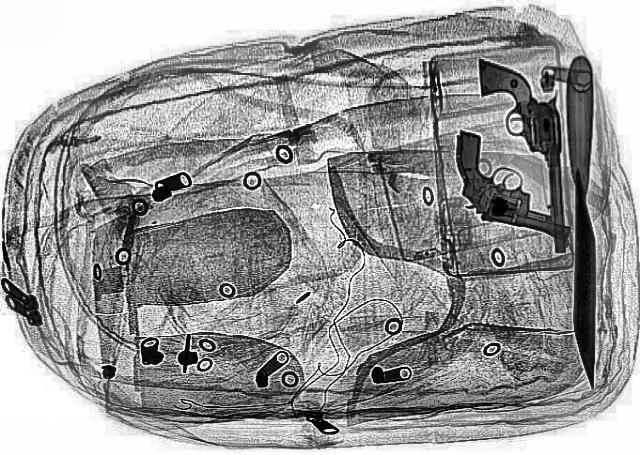Gun: (416, 130, 608, 240), (478, 58, 566, 252)
Knife: (560, 56, 606, 388)
